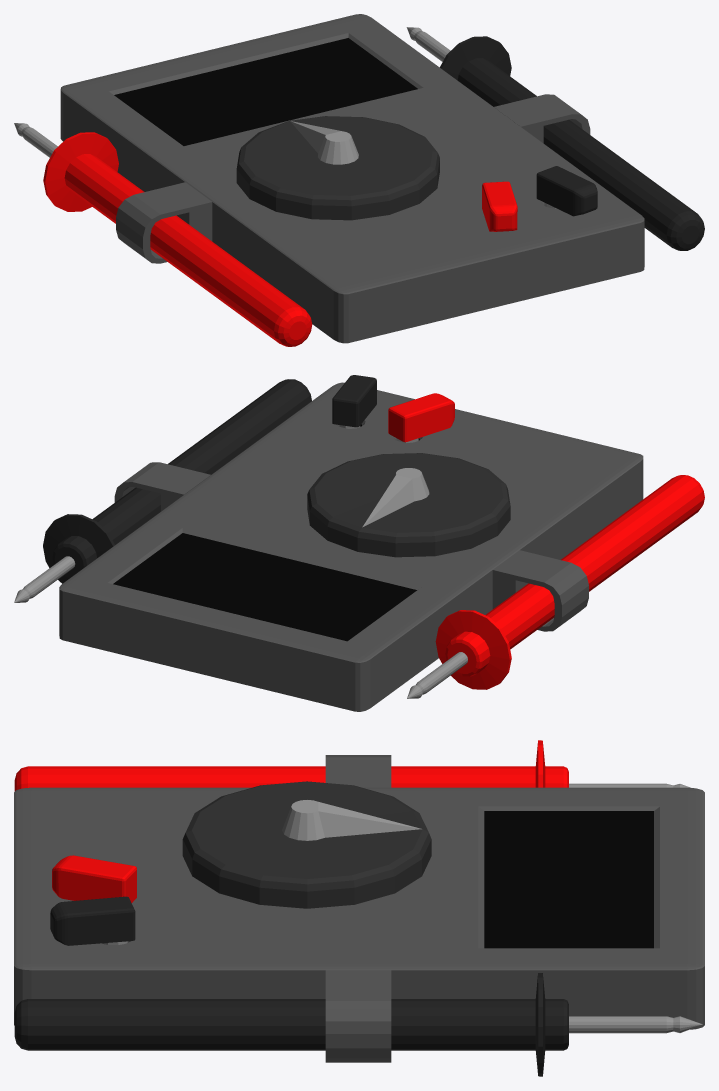
Rendered from voltmeter2.fbx.
The picture shows the model from 3 angles, top to bottom: view 1: azimuth 30°, elevation 25°; view 2: azimuth 150°, elevation 25°; view 3: azimuth 270°, elevation 25°; orthographic projection. The views are drawn at different scales.
Parts seen in each view (by area): view 1: Base, OnOff, PositivePen, NegativePen, PenHolder, NegativePlug, PositivePlug; view 2: Base, OnOff, PositivePen, NegativePen, PenHolder, PositivePlug, NegativePlug; view 3: Base, NegativePen, OnOff, PositivePen, PenHolder, NegativePlug, PositivePlug.
Boxes of the visible parts, x1,y1,x2,y2 form: Base: (60, 14, 644, 343); OnOff: (236, 116, 439, 220); PositivePen: (14, 123, 312, 346); NegativePen: (406, 27, 704, 250); PenHolder: (116, 94, 590, 263); NegativePlug: (536, 166, 597, 216); PositivePlug: (482, 181, 517, 231); Base: (59, 382, 643, 711); OnOff: (307, 453, 510, 557); PositivePen: (407, 475, 704, 698); NegativePen: (14, 379, 311, 602); PenHolder: (114, 462, 588, 631); PositivePlug: (388, 393, 454, 442); NegativePlug: (332, 375, 376, 428); Base: (14, 787, 704, 1029); NegativePen: (14, 973, 702, 1076); OnOff: (182, 781, 431, 908); PositivePen: (14, 740, 690, 791); PenHolder: (325, 755, 391, 1062); NegativePlug: (50, 896, 135, 945); PositivePlug: (52, 855, 136, 902).
Size of what is drawn, in the model's own units: 18.92 by 4.09 by 20.
